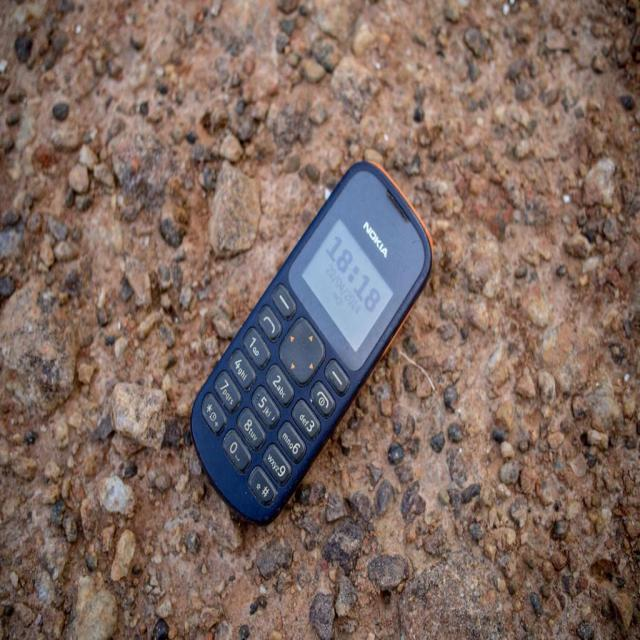Phone: (188, 154, 436, 528)
